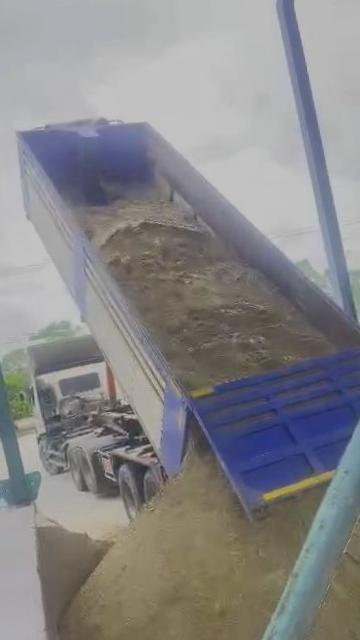sand: (77, 200, 334, 388), (63, 456, 322, 640), (288, 467, 360, 640), (40, 514, 109, 625), (182, 410, 207, 461)
